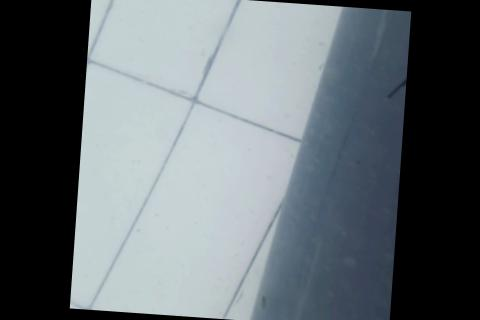keretakan: (384, 54, 407, 99)
